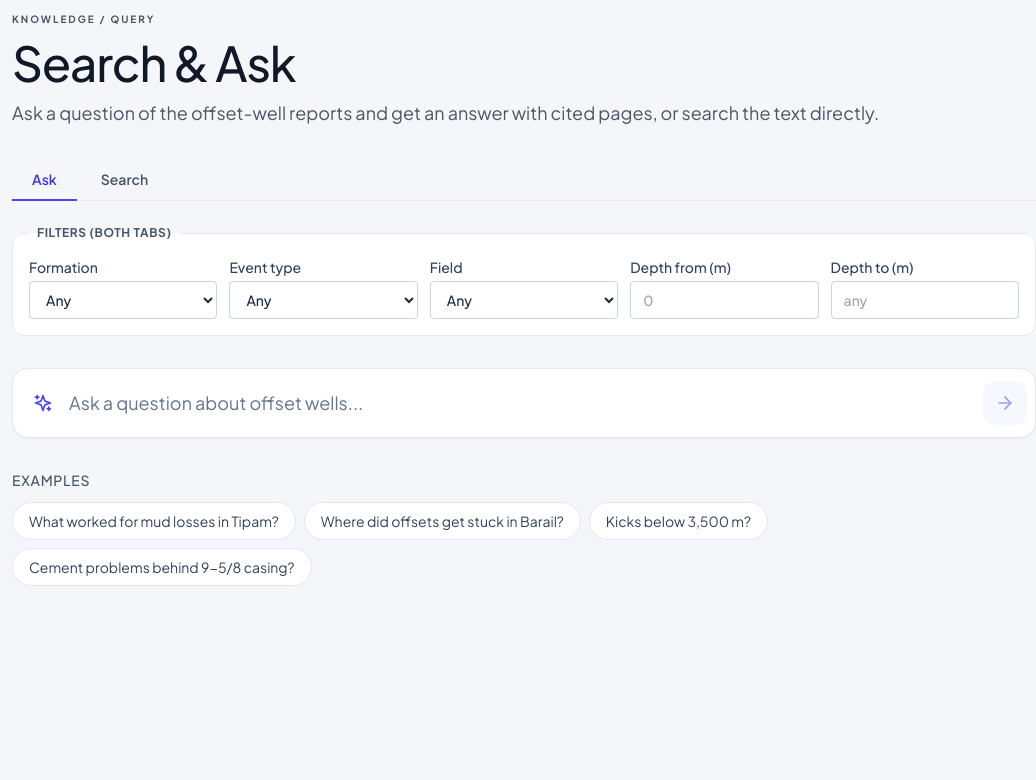
SearchPage › the Ask tab sends the question and renders the cited answer; the example chips ask too
The width and height of the screenshot is (1036, 780).
Click the button "What worked for mud losses in Tipam?" at (154, 521), box [12,502,296,540]
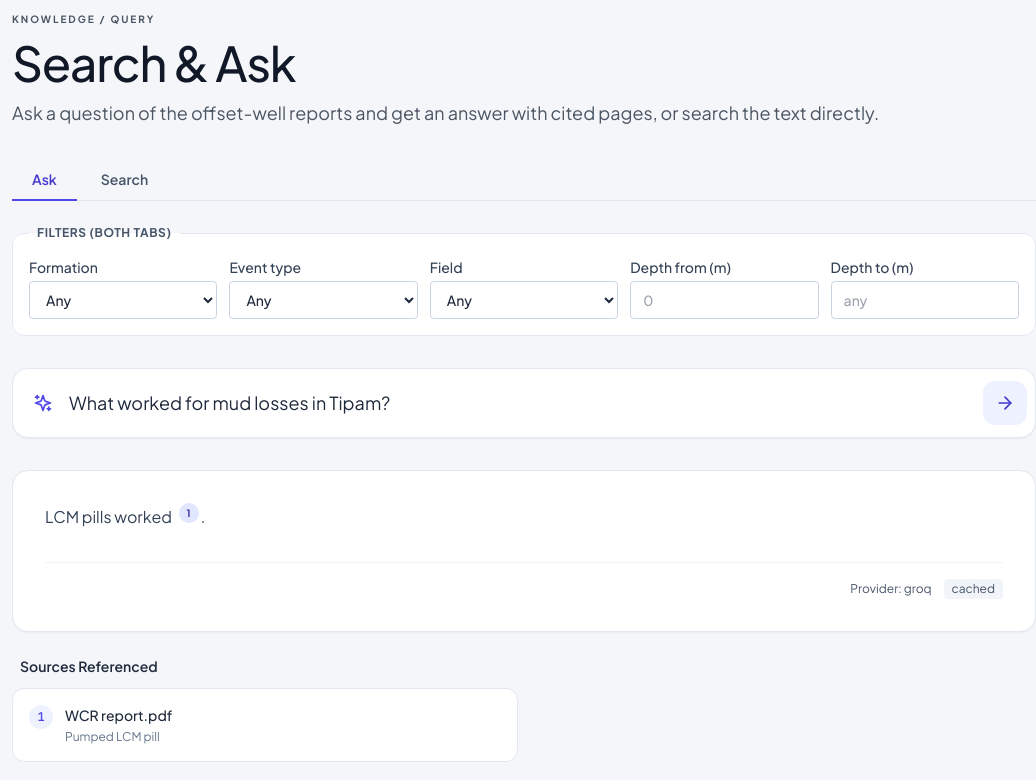
Check: the text "LCM pills worked" is shown, box [45,506,175,527]
Check: the text "cached" is shown, box [944,579,1003,599]
Check: the text "Provider: groq" is shown, box [850,581,932,597]
